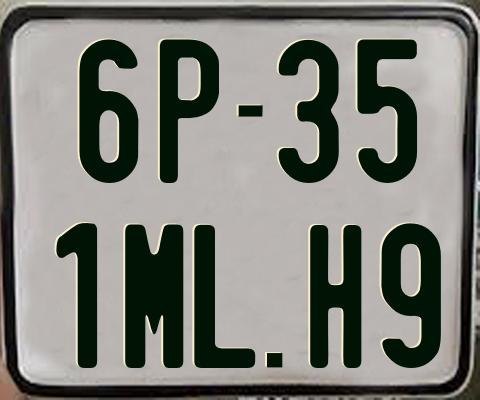1: (55, 221, 97, 372)
3: (276, 40, 340, 185)
5: (355, 38, 416, 185)
6: (76, 39, 140, 187)
9: (381, 222, 445, 373)
H: (310, 224, 362, 371)
L: (192, 224, 255, 372)
M: (124, 222, 185, 372)
P: (160, 36, 220, 182)
